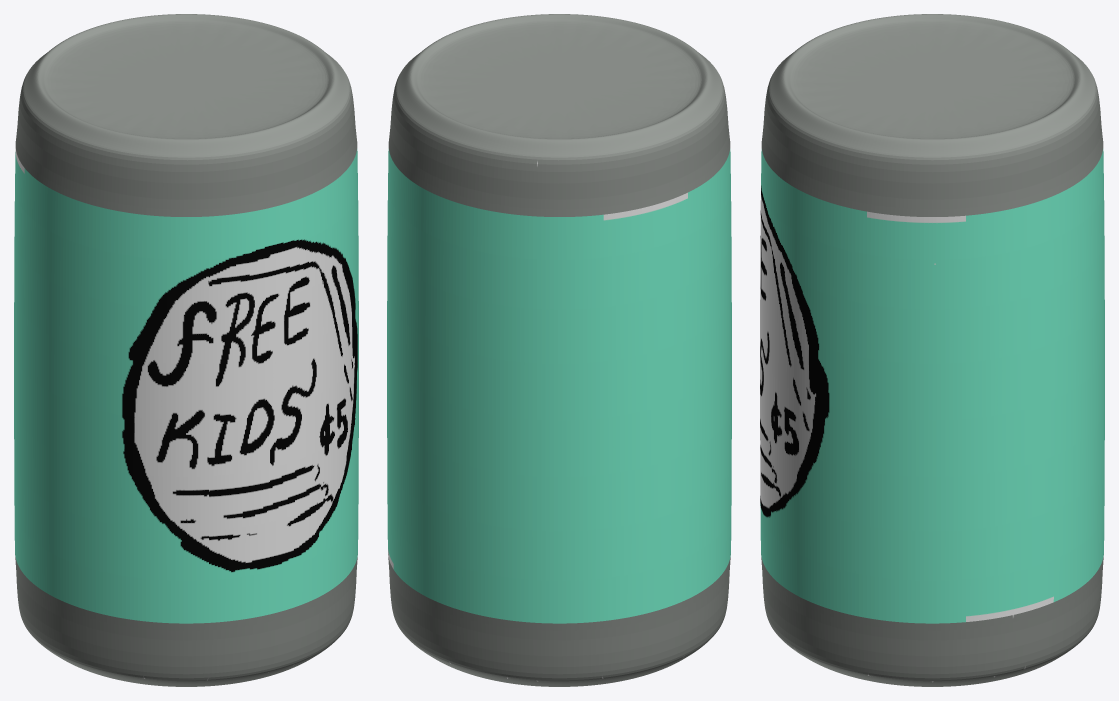
Rendered from higher_poly.fbx.
3 views of the same model, side by side, from view 1: azimuth 30°, elevation 25°; view 2: azimuth 150°, elevation 25°; view 3: azimuth 270°, elevation 25° (orthographic).
Parts seen in each view (by area): view 1: Can; view 2: Can; view 3: Can.
Boxes of the visible parts, x1=… form: Can: x1=14, y1=14, x2=358, y2=686; Can: x1=387, y1=14, x2=731, y2=686; Can: x1=760, y1=14, x2=1104, y2=686.
Size of the model in its own units: 198 by 349 by 198.
